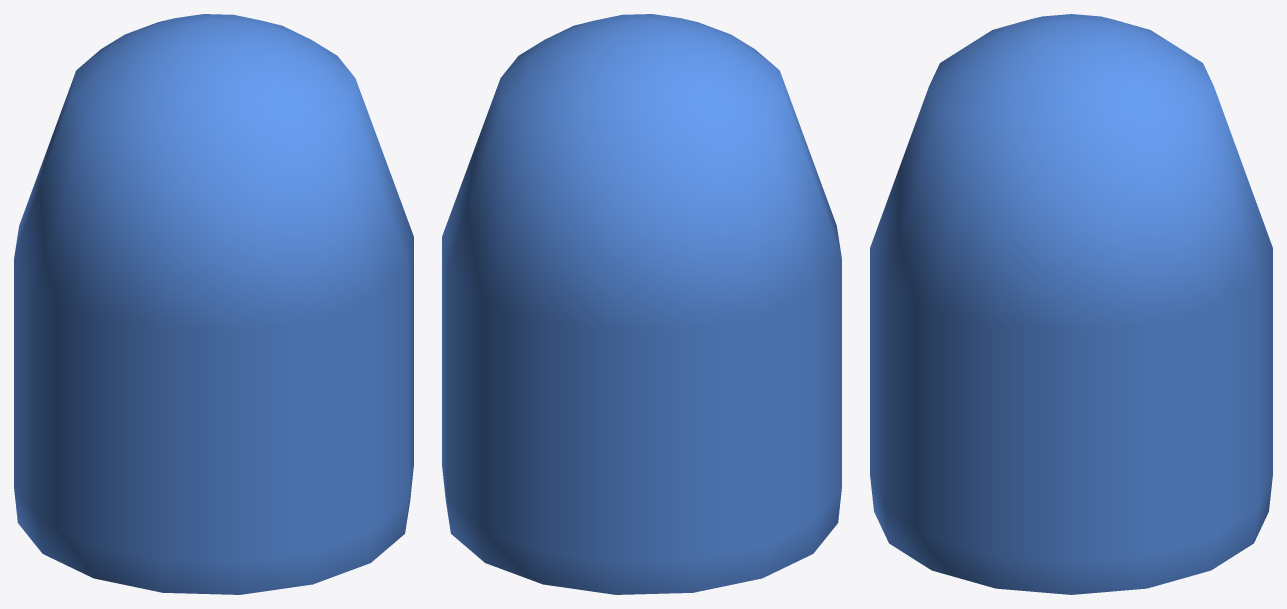
Rendered from blue-whale.glb.
3 renders of one model, left to right at view 1: azimuth 30°, elevation 25°; view 2: azimuth 150°, elevation 25°; view 3: azimuth 270°, elevation 25°, orthographic.
Parts seen in each view (by area): view 1: blue-whale-node; view 2: blue-whale-node; view 3: blue-whale-node.
Part boxes in pixels (left/top/right/bottom): blue-whale-node: left=14, top=14, right=413, bottom=594; blue-whale-node: left=442, top=14, right=841, bottom=594; blue-whale-node: left=870, top=14, right=1272, bottom=594.
Size of the model in its own units: 1.4 by 1.84 by 1.4.
